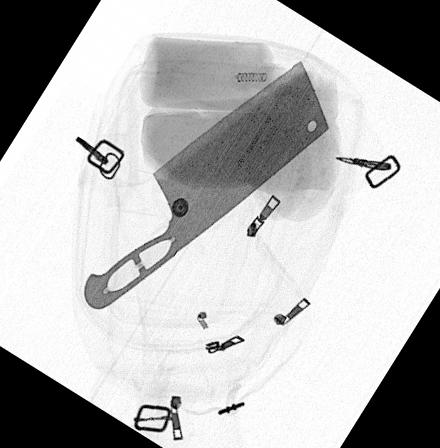Knife: (82, 60, 329, 309)
